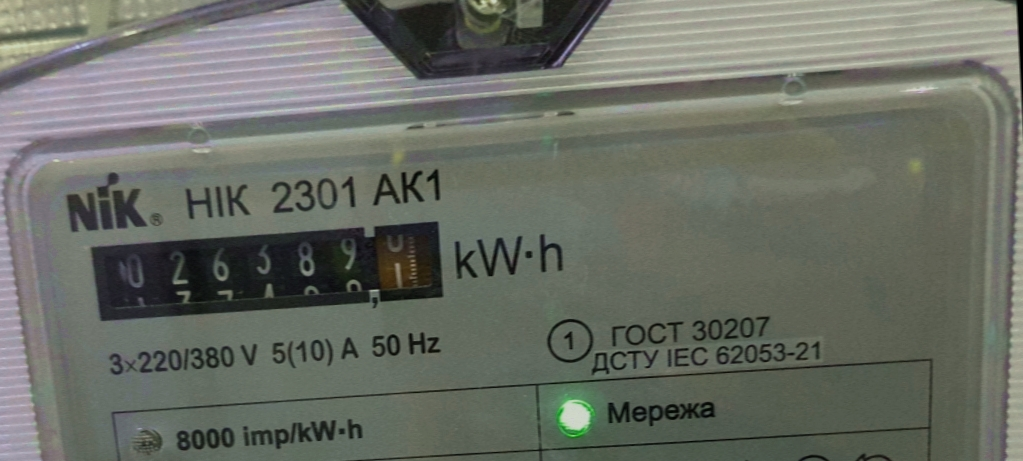0: (122, 249, 148, 290), (386, 231, 405, 253)
1: (391, 258, 406, 290)
2: (166, 246, 192, 286)
3: (254, 241, 272, 276)
6: (210, 243, 230, 283)
8: (296, 238, 318, 277)
9: (339, 235, 359, 270)
screen: (76, 208, 460, 333)
